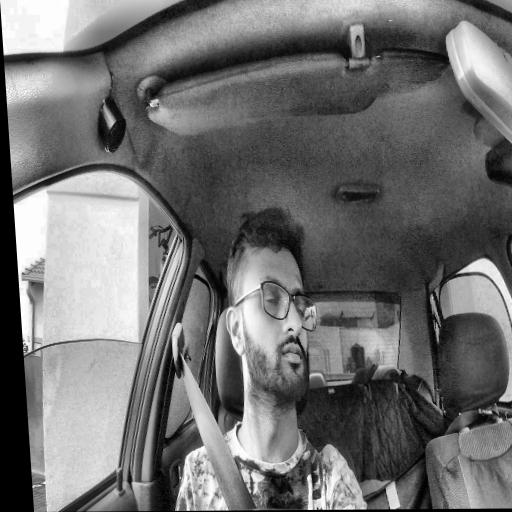drowsy: (218, 205, 324, 412)
